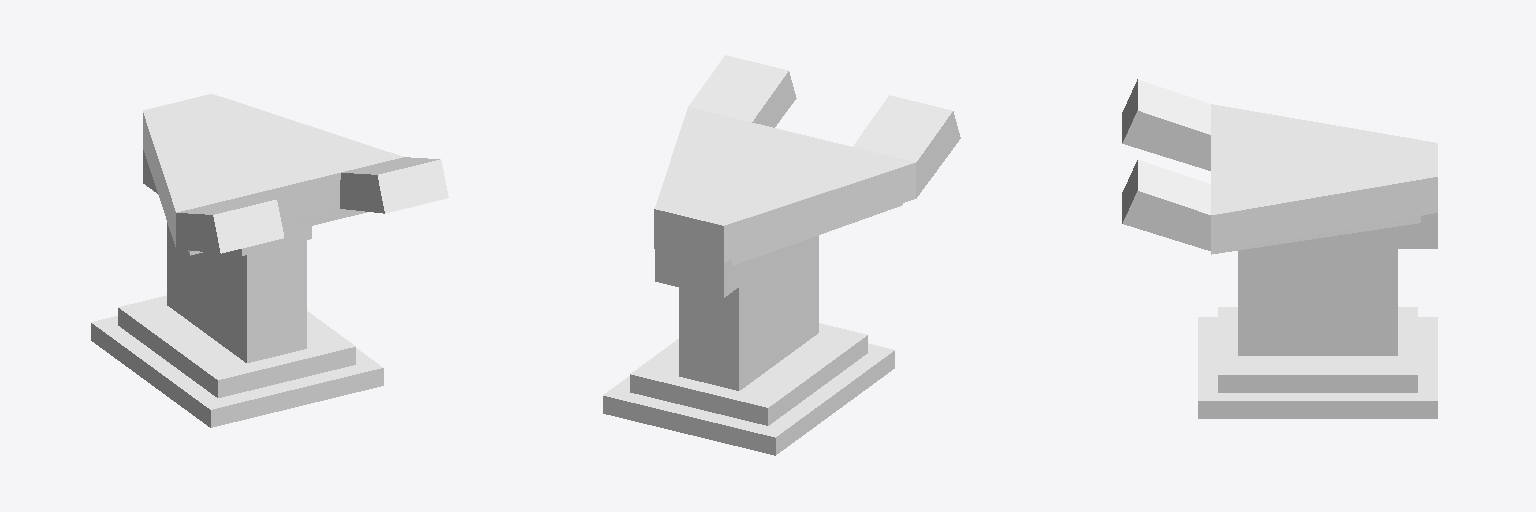
The model's file is vil.obj.
3 renders of one model, left to right at view 1: azimuth 30°, elevation 25°; view 2: azimuth 150°, elevation 25°; view 3: azimuth 270°, elevation 25°, orthographic.
Visible parts, largest first — view 1: cube; view 2: cube; view 3: cube.
Part boxes in pixels (x1,y1,x2,y2): cube: (91, 94, 448, 427); cube: (603, 55, 960, 455); cube: (1122, 79, 1437, 418).
Bounding box in the file's own units: 0.8248 × 0.8356 × 0.9867.